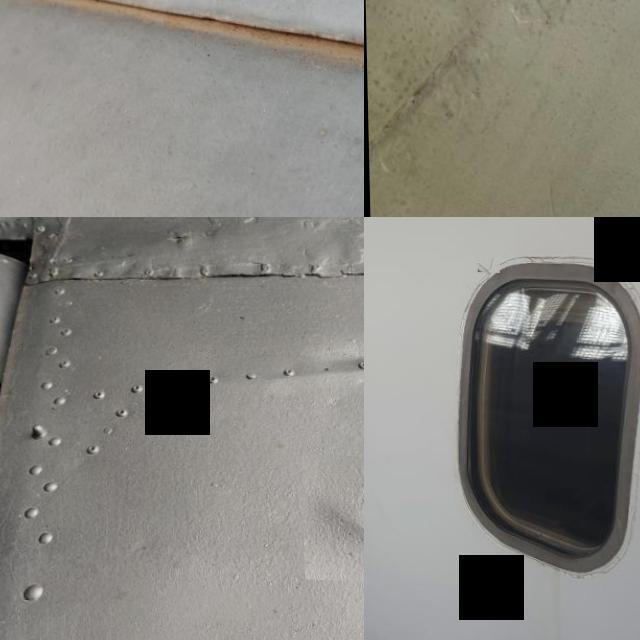Crack: (478, 250, 500, 270)
Dent: (285, 297, 364, 417), (301, 451, 364, 580)
